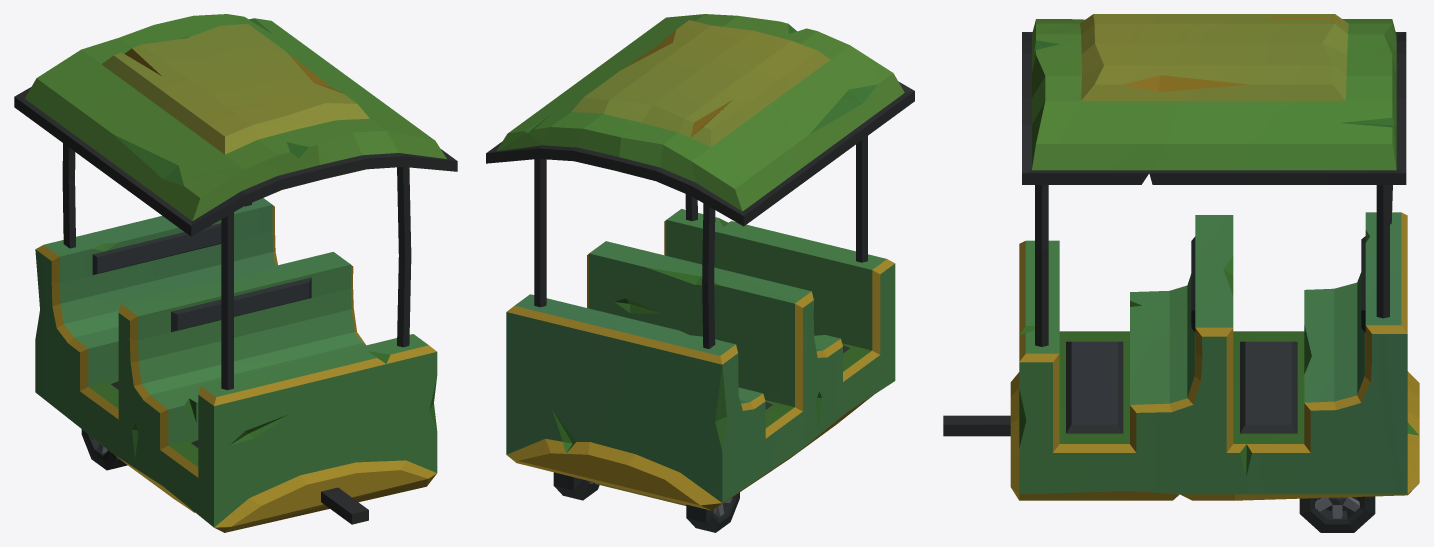
Rendered from train-carriage.glb.
3 views of the same model, side by side, from view 1: azimuth 30°, elevation 25°; view 2: azimuth 150°, elevation 25°; view 3: azimuth 270°, elevation 25° (orthographic). The views are drawn at different scales.
Visible parts, largest first — view 1: SM_Veh_Carnival_Train_01_Carriage_01; view 2: SM_Veh_Carnival_Train_01_Carriage_01; view 3: SM_Veh_Carnival_Train_01_Carriage_01.
Boxes of the visible parts, <box> form: SM_Veh_Carnival_Train_01_Carriage_01: <box>14,14,457,532</box>; SM_Veh_Carnival_Train_01_Carriage_01: <box>486,14,914,532</box>; SM_Veh_Carnival_Train_01_Carriage_01: <box>943,14,1419,532</box>.
Bounding box in the file's own units: 161 × 239 × 230.
Materials: 1 (1 with a texture image).
